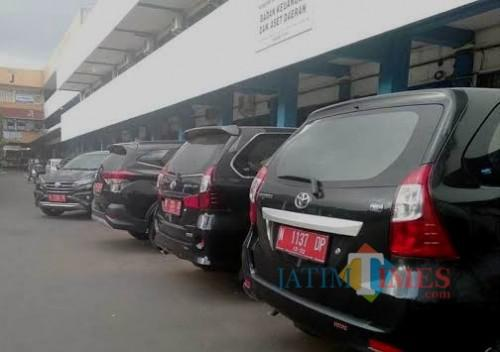plate: (272, 222, 329, 264)
